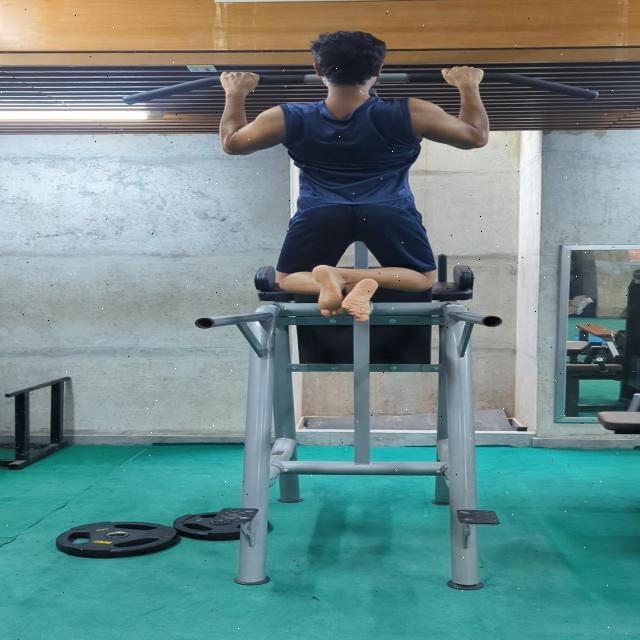Normal_PullUps: (214, 28, 497, 323)
